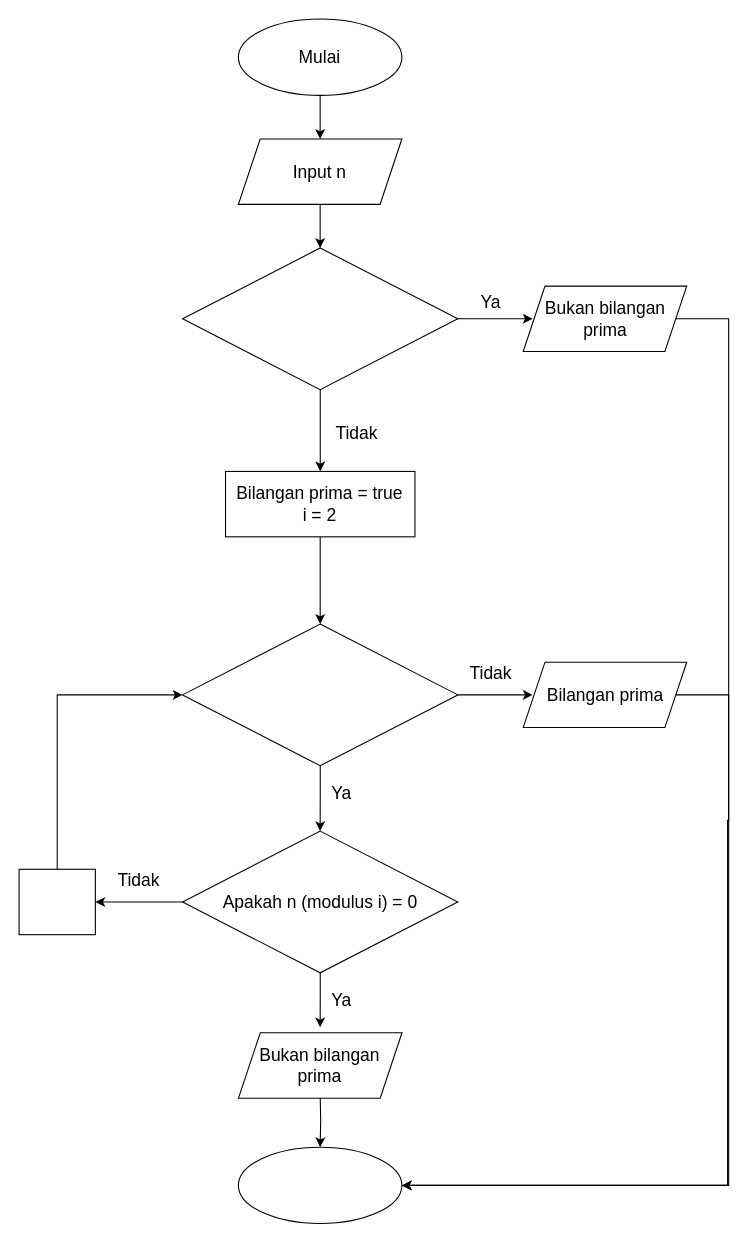
Image size: 756x1243. Some labels were removed from this diagram. Here are the shapes that lost their labels. From the top down, the centre of each, then its label:
At (319,318): "Apakah n <= 1".
At (319,694): "Apakah i 2 <= n".
At (56,901): "i = i + 1".
At (319,1185): "Selesai".
